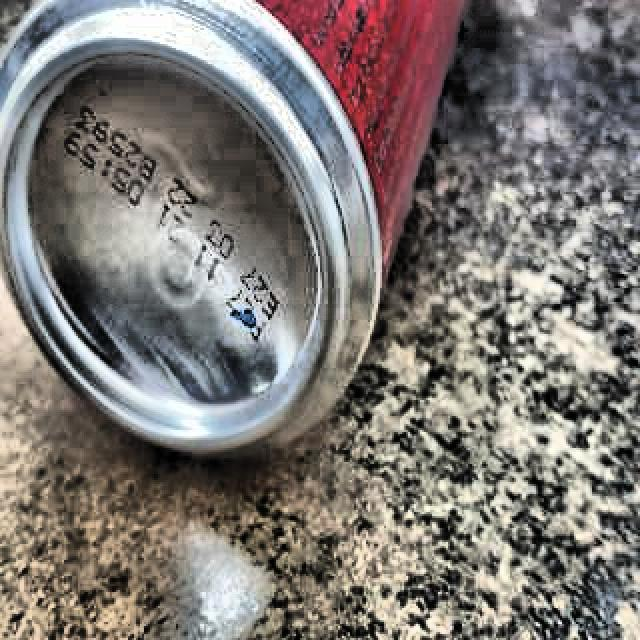metal: (0, 0, 465, 458)
